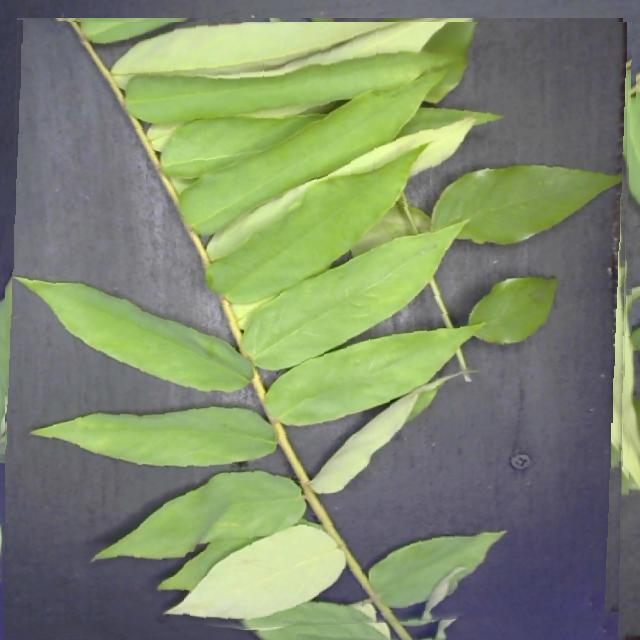biodegradable: (5, 22, 633, 640)
